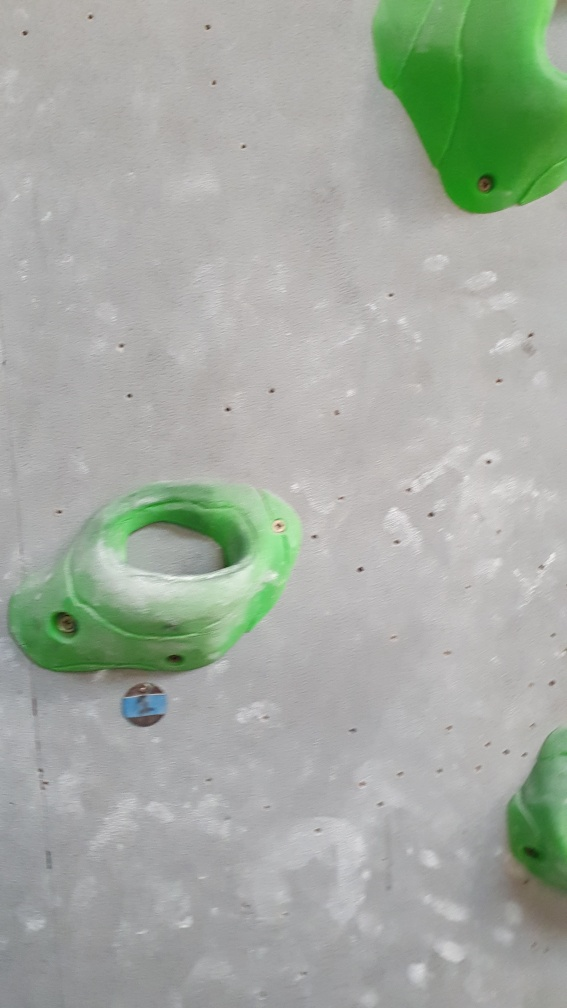Hand Start: (120, 676, 172, 732)
Pocket: (5, 471, 305, 681)
